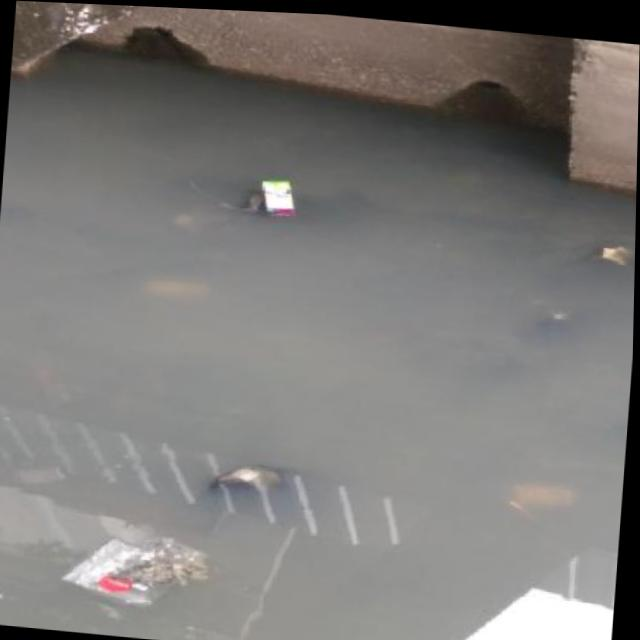cardboard: (259, 178, 299, 218)
